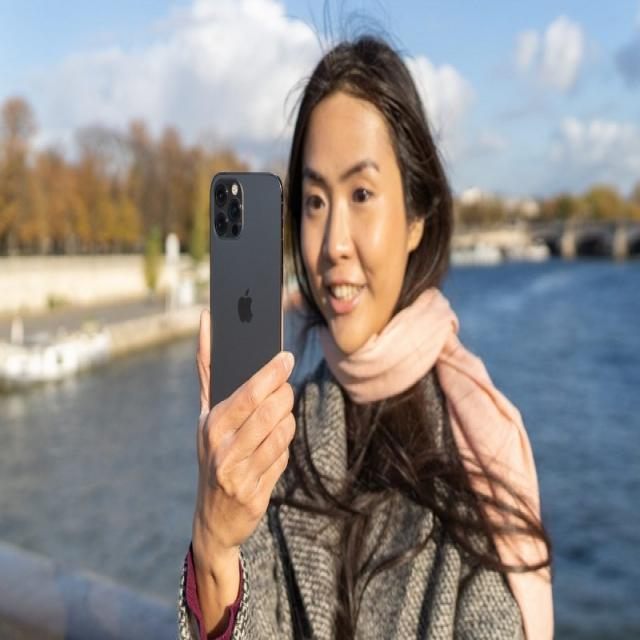phone: (210, 171, 284, 443)
